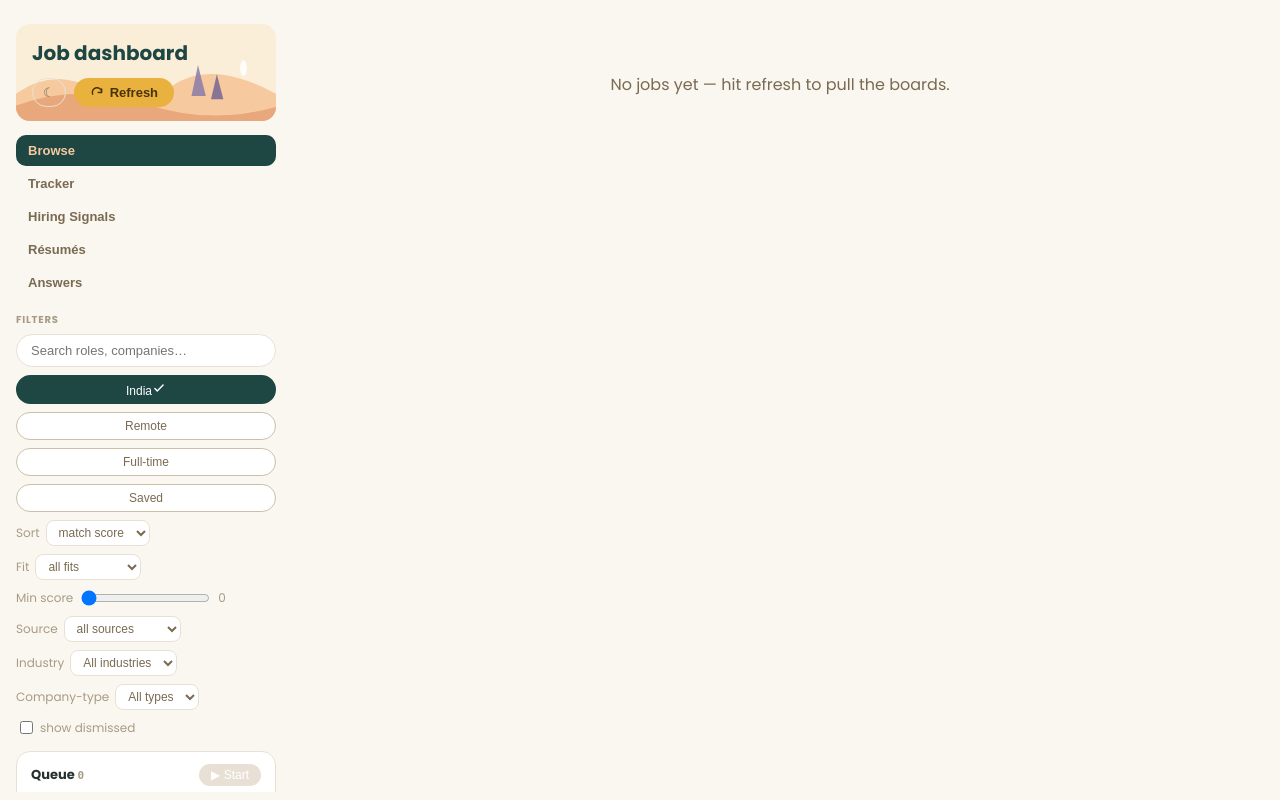
Test: sidebar holds the nav, the filters (Browse only) and the queue
Expected: the element "Filters" is shown, top-left (16, 312), bottom-right (276, 737)
Click the button "Tracker". click: (51, 184)
box: top-left (16, 168), bottom-right (276, 199)
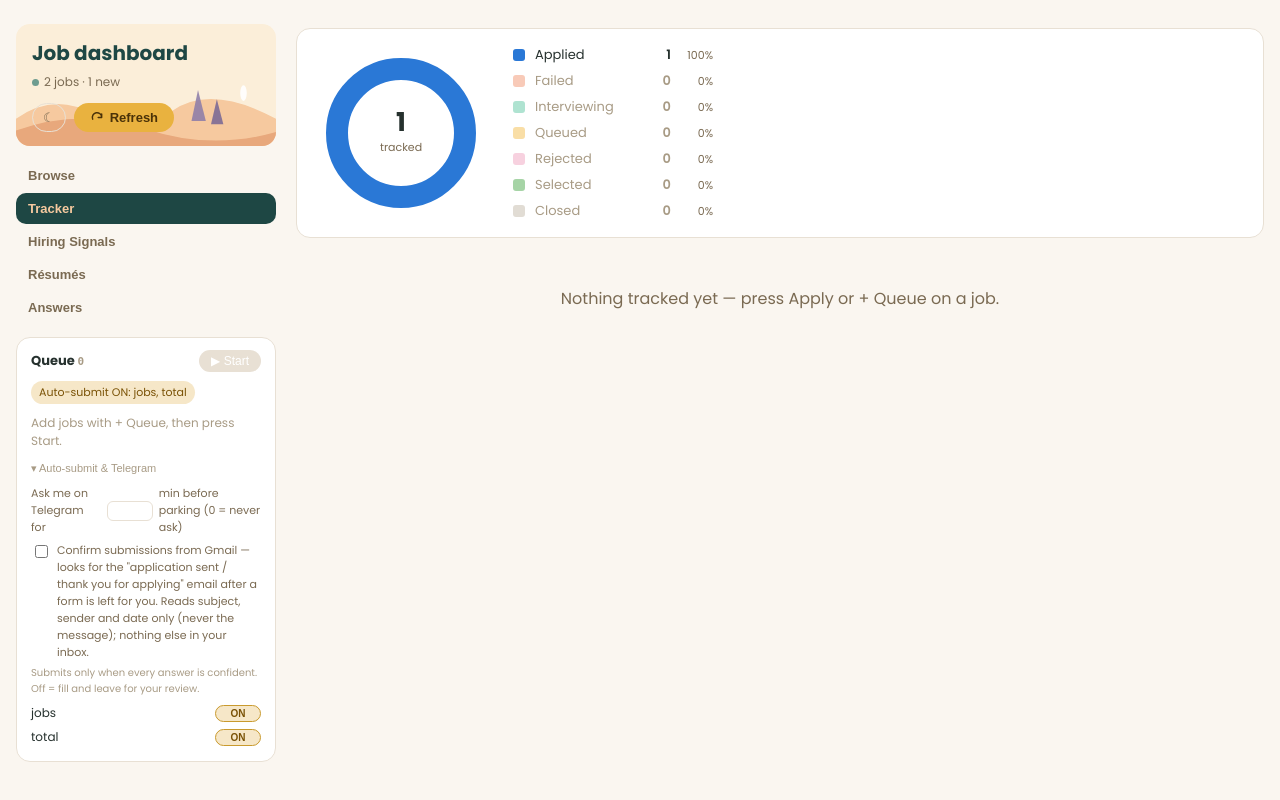
Expected: the text "Filters" is gone
